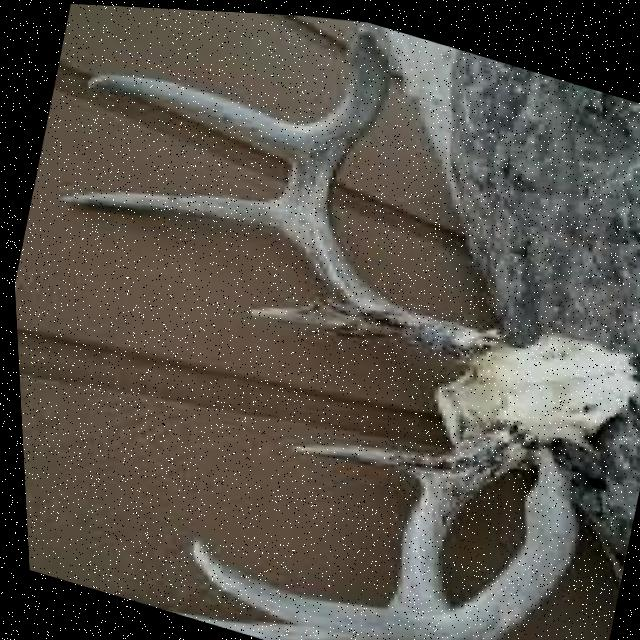L-F: (389, 420, 574, 640)
L-G1: (282, 438, 432, 476)
L-G2: (185, 532, 415, 640)
R-F: (280, 22, 500, 361)
R-G1: (243, 288, 382, 334)
R-G2: (48, 187, 282, 235)
R-G3: (83, 70, 319, 162)
